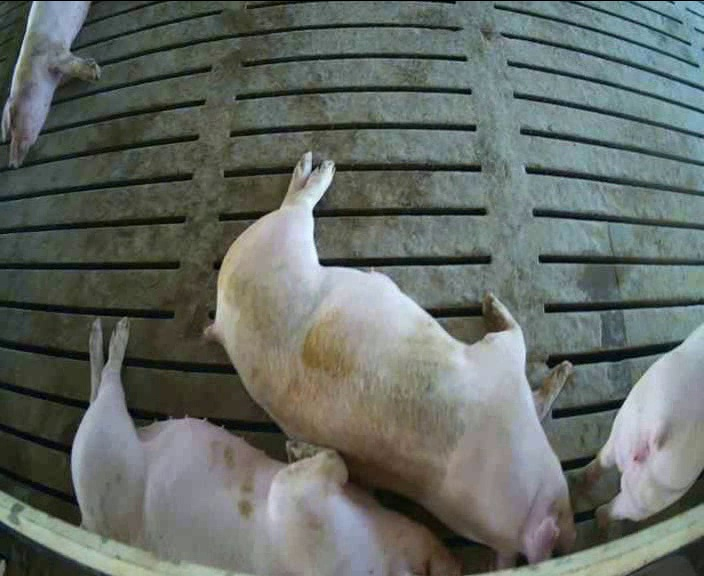pig: (203, 154, 574, 570), (71, 320, 459, 573), (574, 323, 703, 524), (2, 1, 99, 167)
